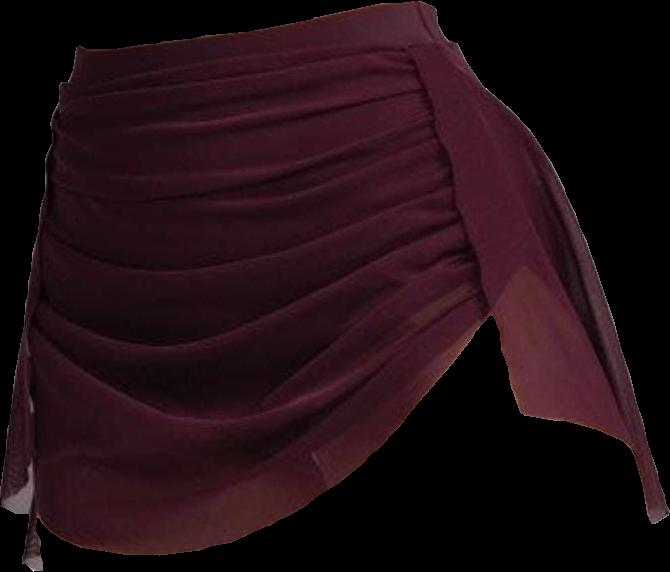Hemline: (0, 315, 669, 560)
Waistline: (62, 37, 450, 87), (75, 0, 427, 55)
